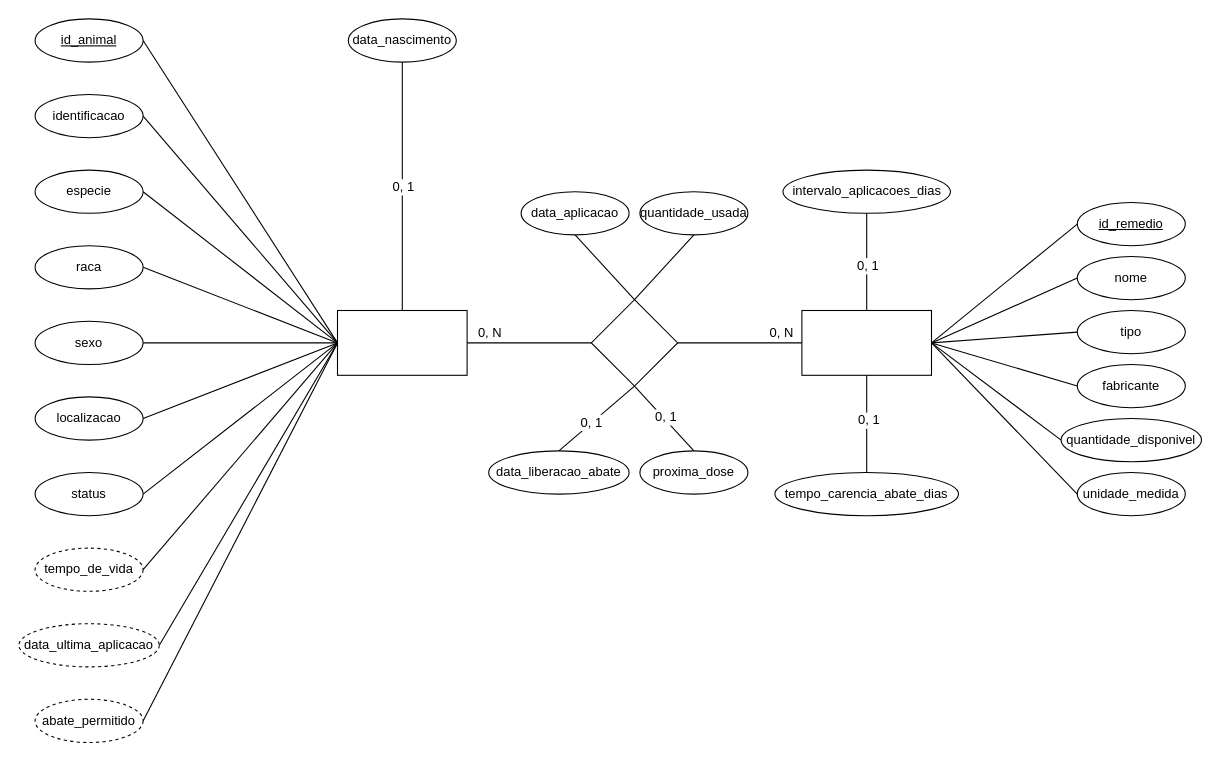
This 1220x761 diagram has some shape labels left out. Here are the shapes that lost their labels. From the top down, the centre of each, then its label:
At [401,342]: "ANIMAL".
At [634,342]: "RECEBE".
At [866,342]: "REMEDIO".
